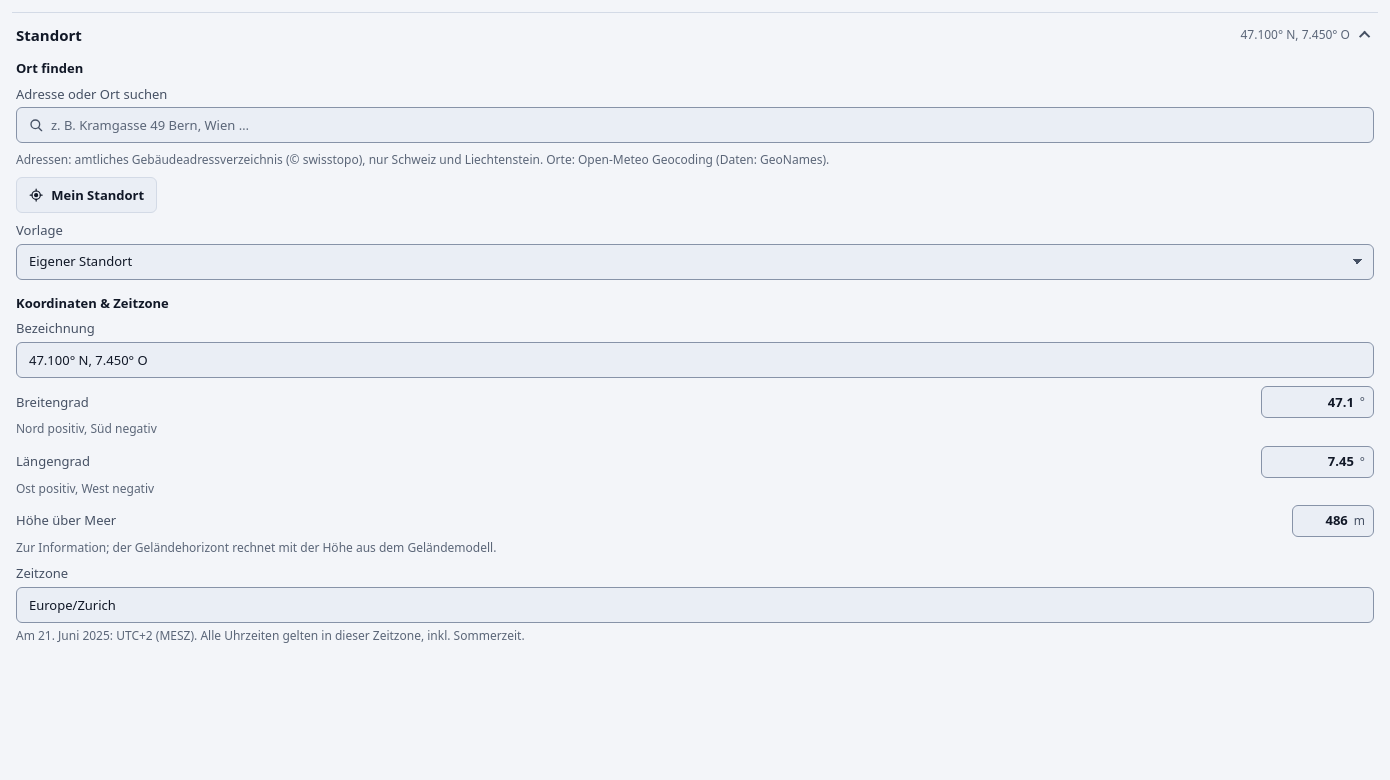
Test case: LocationSection › my location › uses the device position with a coordinate label and the device time zone
What coordinates should you click on to do the following:
click the button "Mein Standort"
I would click on:
 (87, 195)
Its box is [16,177,157,213].
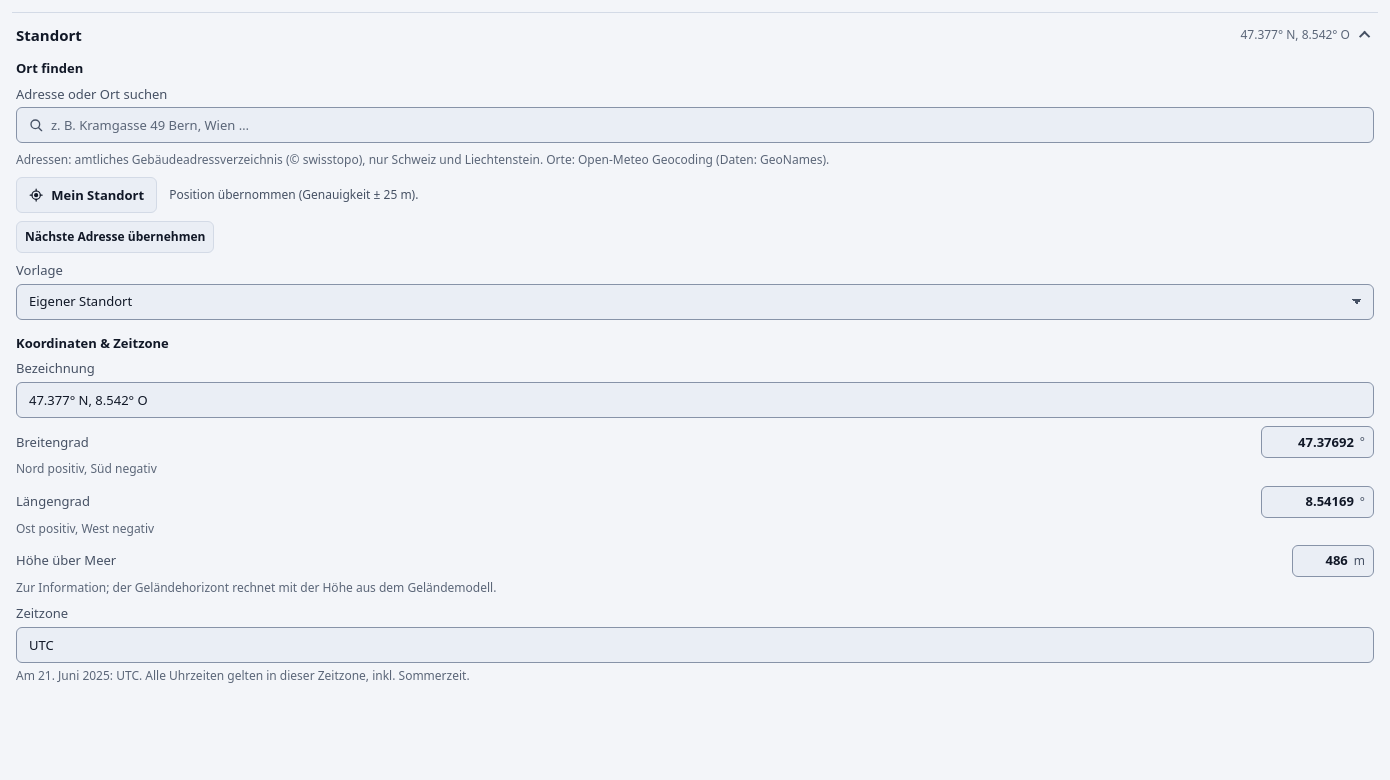
Now the text "Position übernommen (Genauigkeit ± 25 m)." is shown, box [169,186,418,203]
